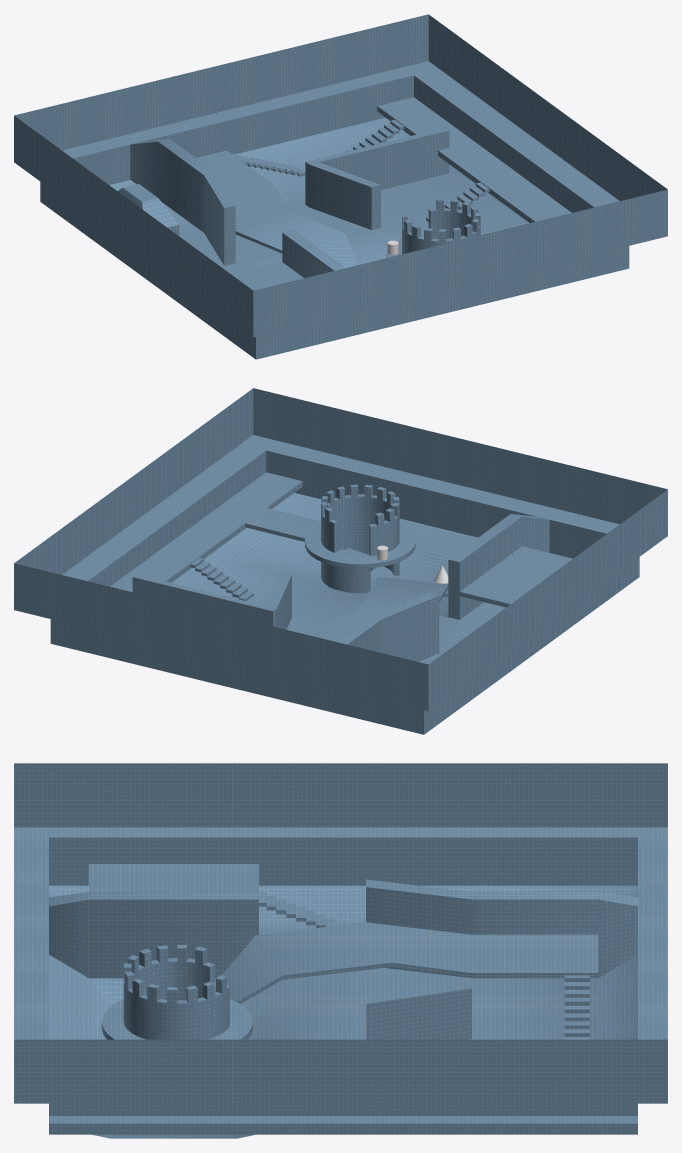
3 views of the same model, one above another, from view 1: azimuth 30°, elevation 25°; view 2: azimuth 150°, elevation 25°; view 3: azimuth 270°, elevation 25° (orthographic). The views are drawn at different scales.
Visible parts, largest first — view 1: Cube.004; view 2: Cube.004; view 3: Cube.004.
Boxes of the visible parts, <box> form: Cube.004: <box>14,14,667,359</box>; Cube.004: <box>14,388,667,734</box>; Cube.004: <box>14,763,667,1138</box>.
Bounding box in the file's own units: 34.36 × 8.6 × 34.36.
Materials: 1 (1 with a texture image).
